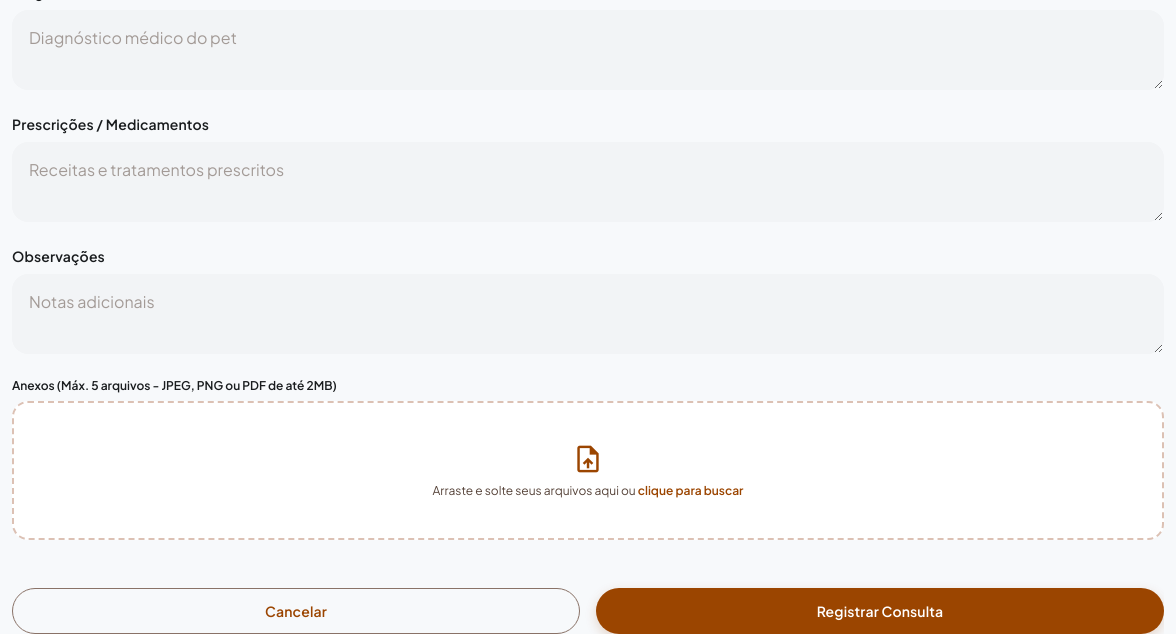
Test case: ConsultationForm Component › should display validation error when reason is empty
The width and height of the screenshot is (1176, 634).
(page scrolled)
What coordinates should you click on to do the following:
click the button with test id "btn-salvar-consulta"
I would click on:
 (880, 611)
Its box is 596,588 -> 1164,633.
(page scrolled)
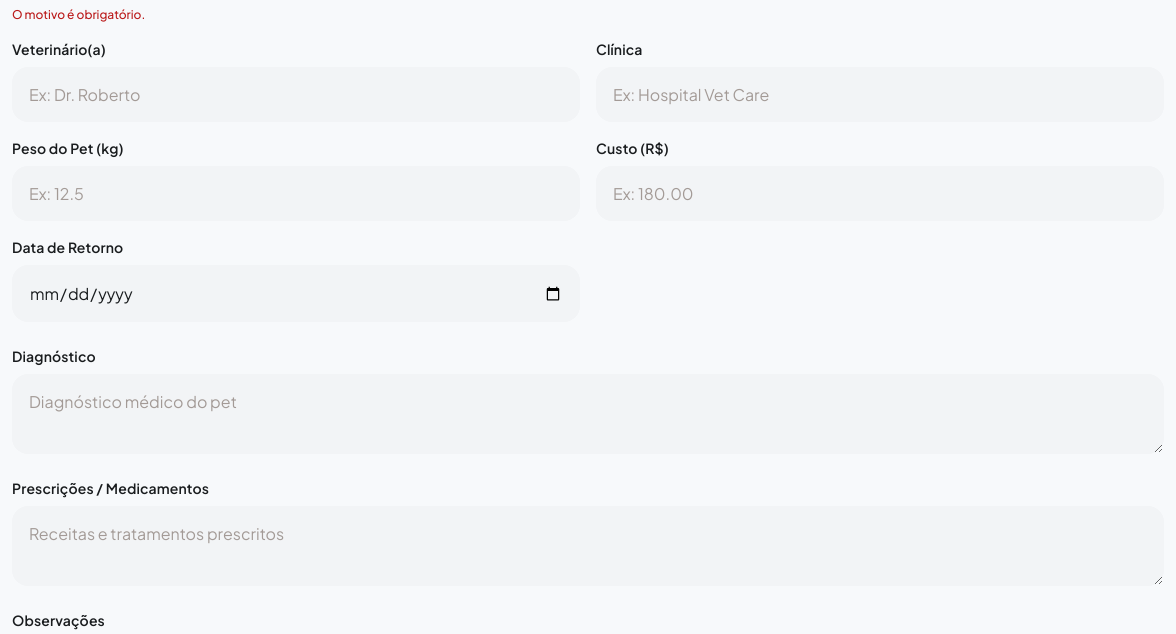
Now the text "O motivo é obrigatório." is shown, box 12,7 -> 145,22
